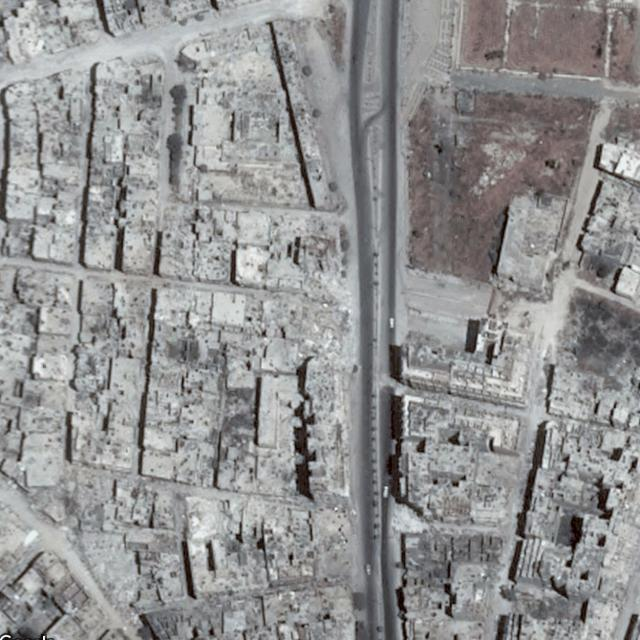damaged_building: (257, 209, 357, 433), (29, 469, 138, 616), (197, 24, 289, 126)
